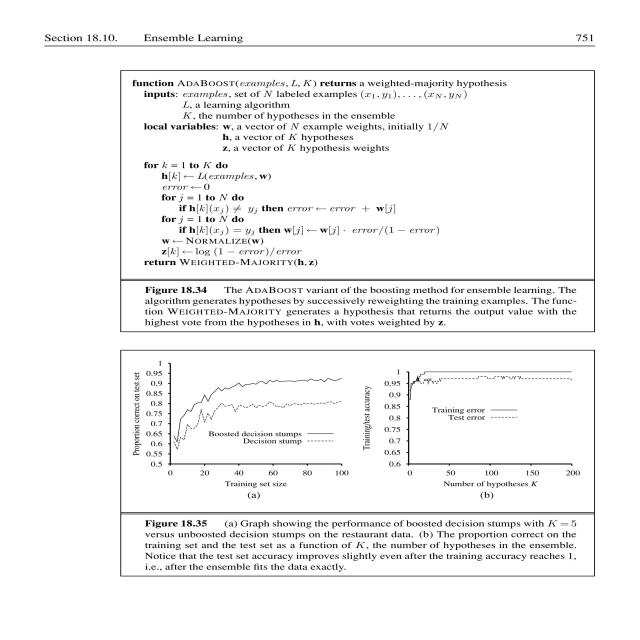diagram: (113, 349, 599, 584)
